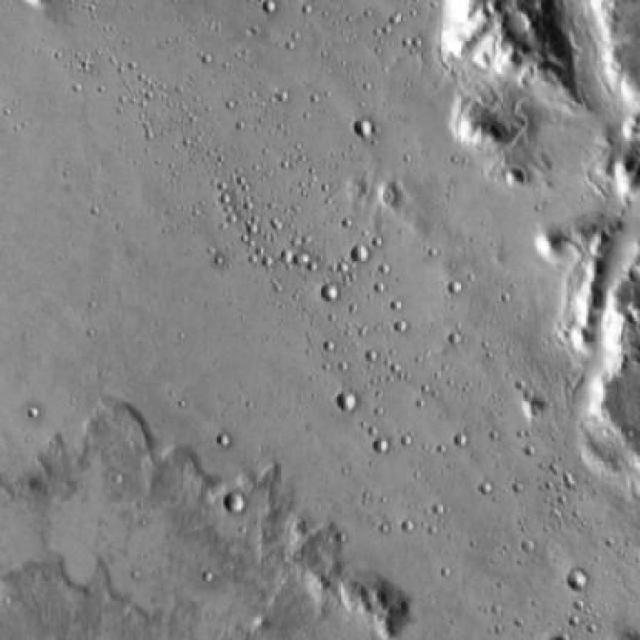crater: (224, 493, 244, 513), (336, 392, 356, 412), (568, 570, 588, 590), (355, 118, 374, 136), (350, 242, 368, 261), (318, 284, 336, 302)
